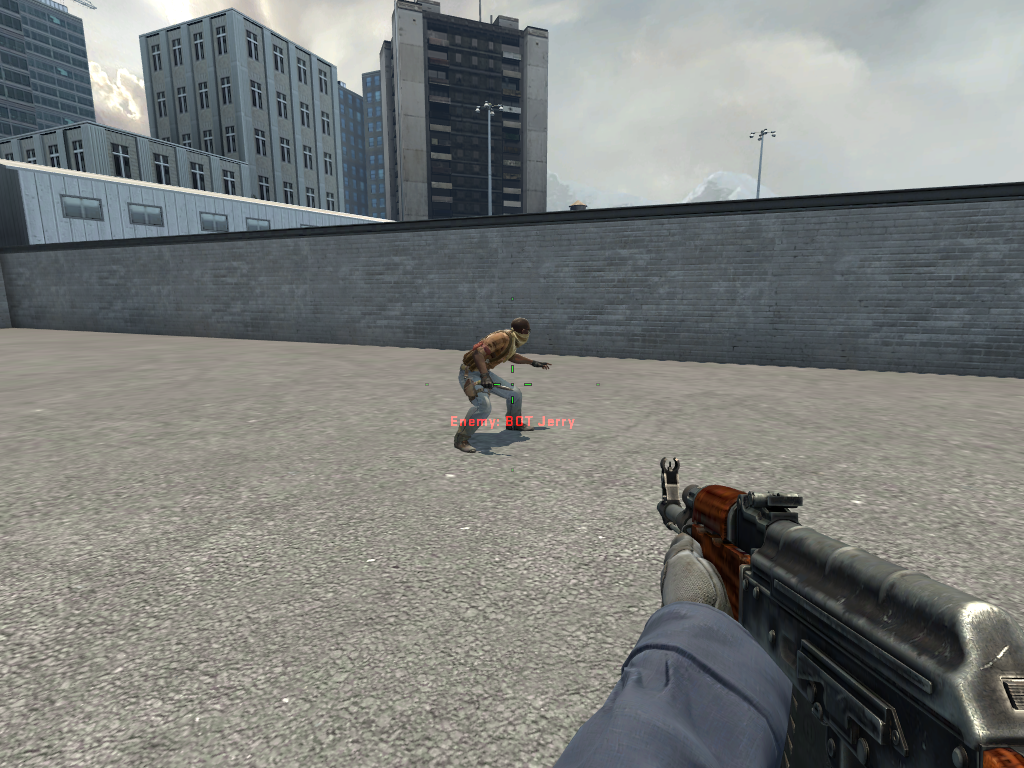tr head: (508, 314, 534, 345)
